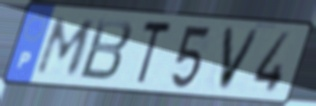4: (248, 30, 293, 96)
5: (167, 23, 215, 90)
B: (76, 16, 136, 83)
M: (32, 15, 99, 77)
T: (133, 18, 175, 88)
V: (216, 24, 264, 94)
